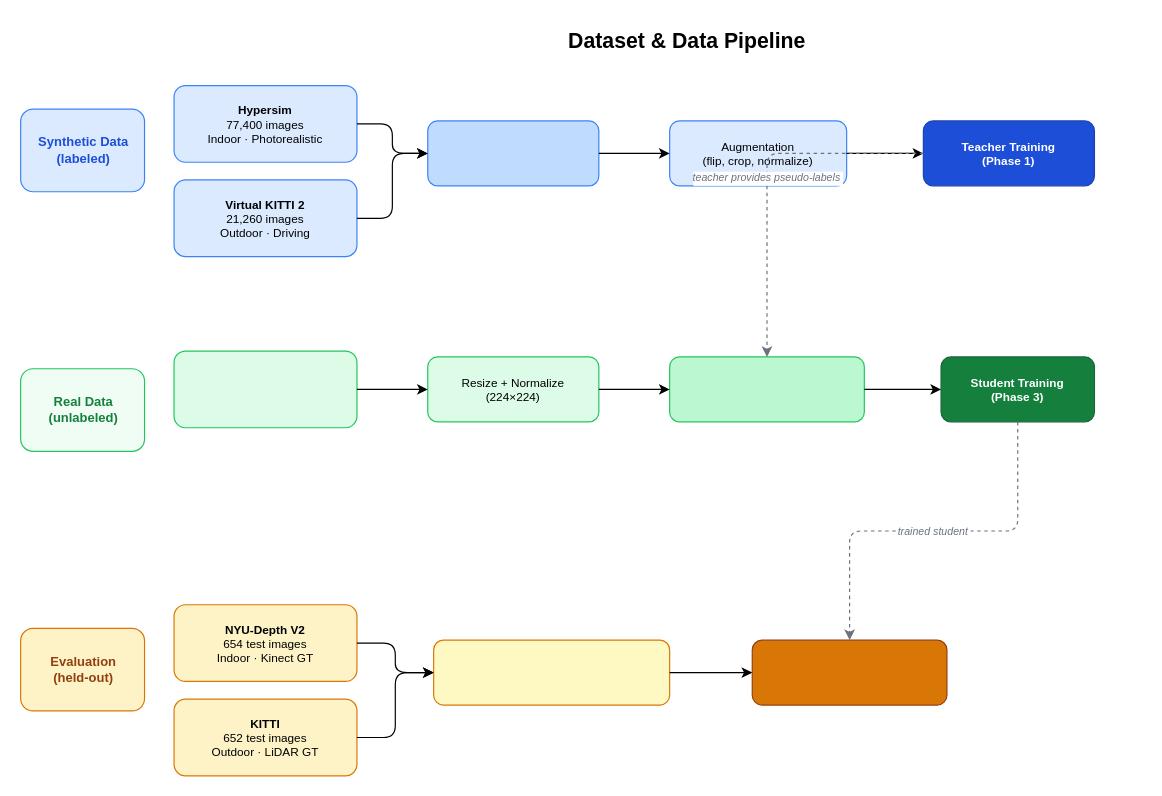
Image size: 1162x796. Some labels were removed from this diagram. Each missing label, with the centre of its shape:
"Dense GT Depth (ray-traced / sim)" goes at (x=513, y=153).
"Evaluation & Metrics (AbsRel, RMSE, δ1/2/3)" goes at (x=849, y=672).
"Never seen during training Reserved for final evaluation only" goes at (x=551, y=672).
"Pseudo-label Generation (Frozen Teacher, Phase 2)" goes at (x=766, y=389).
"SA-1B ~11M images Diverse real-world" goes at (x=265, y=389).
